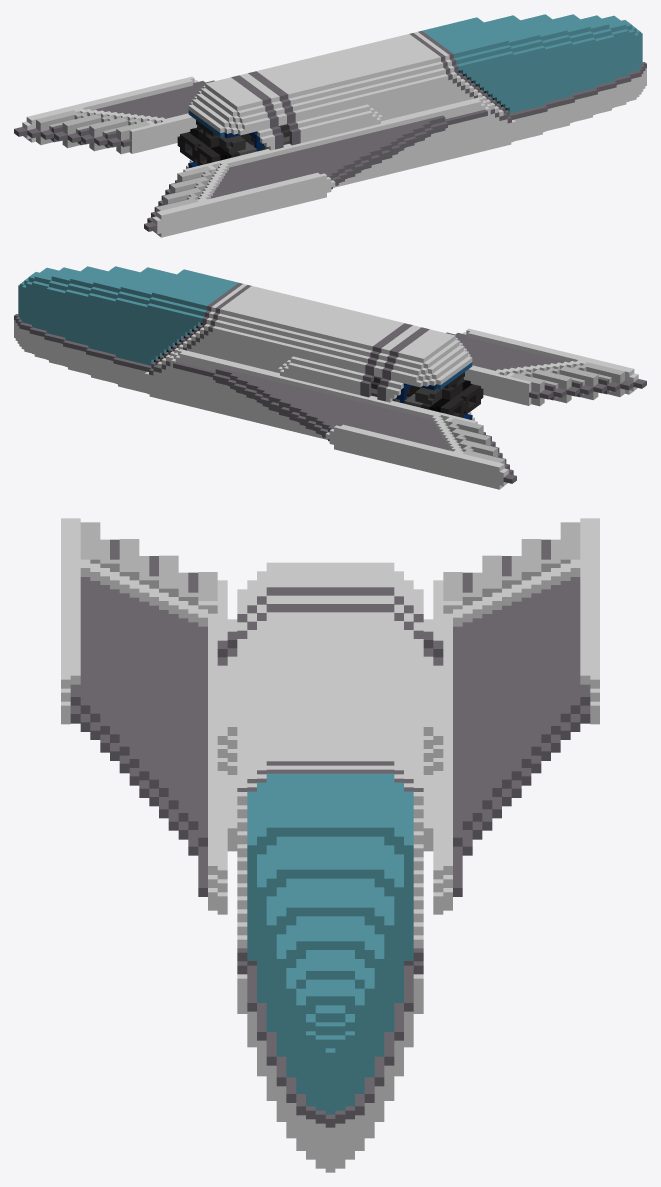
File: ship-v2.obj
The picture shows the model from 3 angles, top to bottom: view 1: azimuth 30°, elevation 25°; view 2: azimuth 150°, elevation 25°; view 3: azimuth 270°, elevation 25°; orthographic projection. The views are drawn at different scales.
Size of the model in its own units: 133 by 24 by 55.
